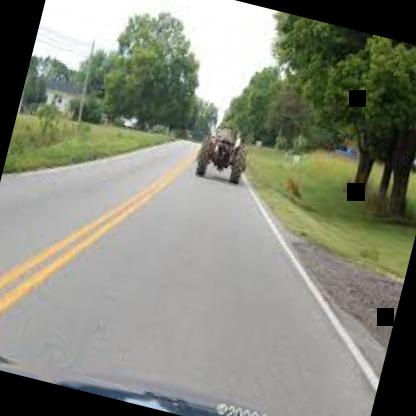car: (181, 106, 266, 206)
